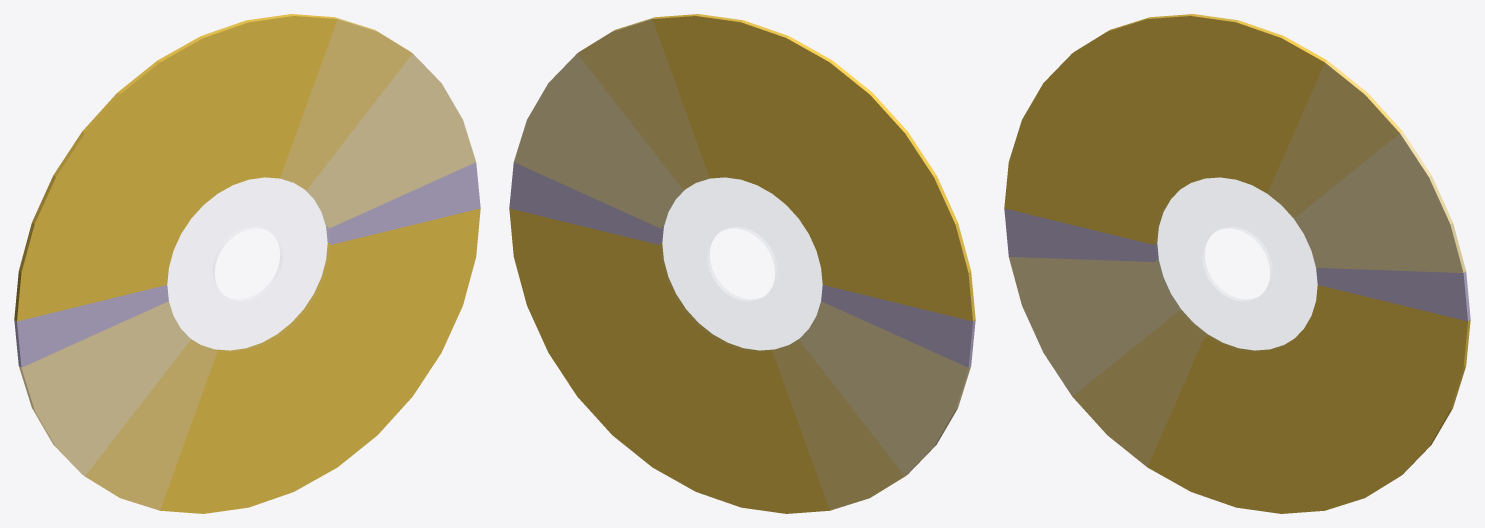
The model's file is dvd.glb.
The picture shows the model from 3 angles, left to right: view 1: azimuth 30°, elevation 25°; view 2: azimuth 150°, elevation 25°; view 3: azimuth 330°, elevation 25°; orthographic projection.
Parts seen in each view (by area): view 1: Circle.2553; view 2: Circle.2553; view 3: Circle.2553.
Boxes of the visible parts, x1,y1,x2,y2 form: Circle.2553: (14, 14, 480, 513); Circle.2553: (509, 14, 975, 513); Circle.2553: (1004, 14, 1470, 513).
Size of the model in its own units: 2.2 by 2.2 by 0.022.
Materials: 2 (1 with a texture image).
